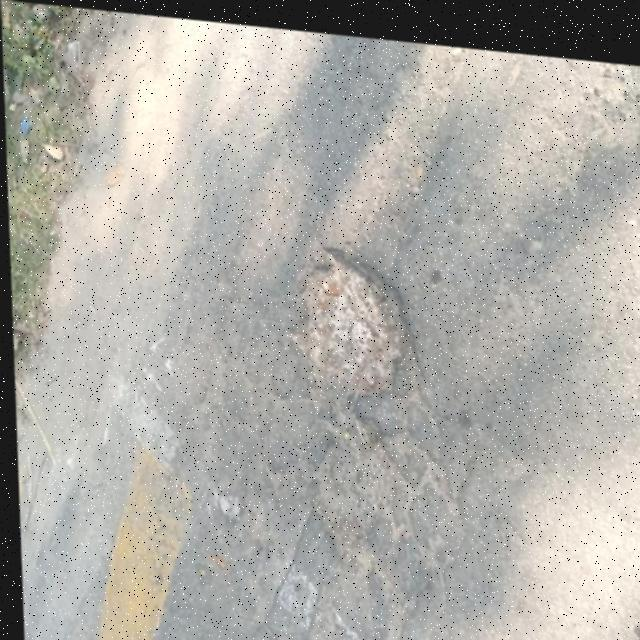pothole: (272, 227, 424, 429)
